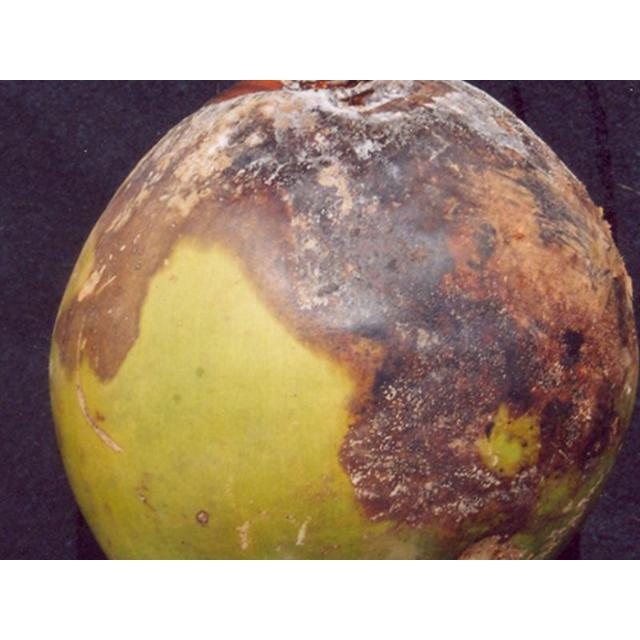damaged: (46, 80, 639, 559)
